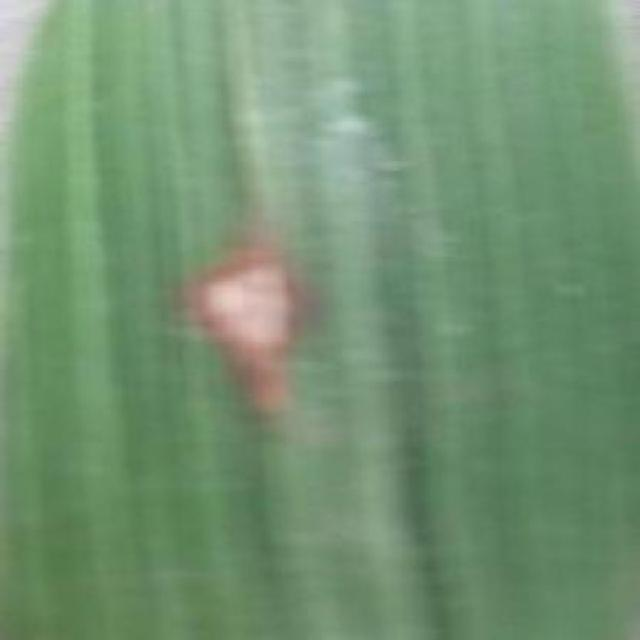Bacterial_Leaf_Blight: (121, 198, 352, 465)
